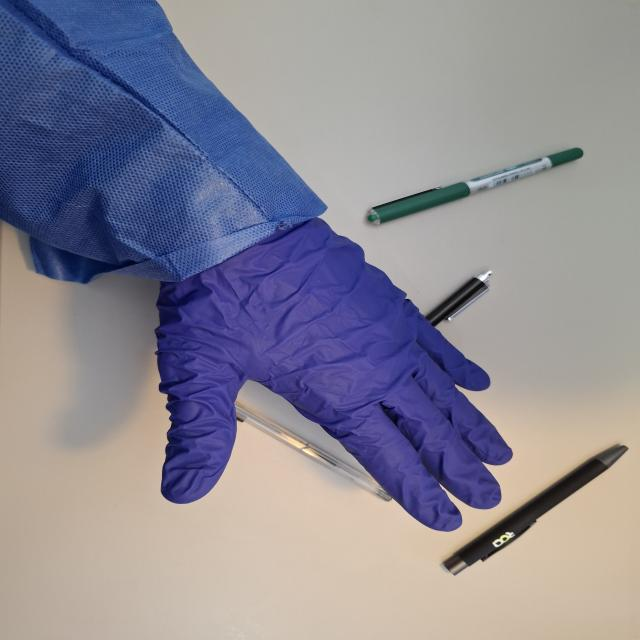glove_on: (151, 211, 516, 534)
